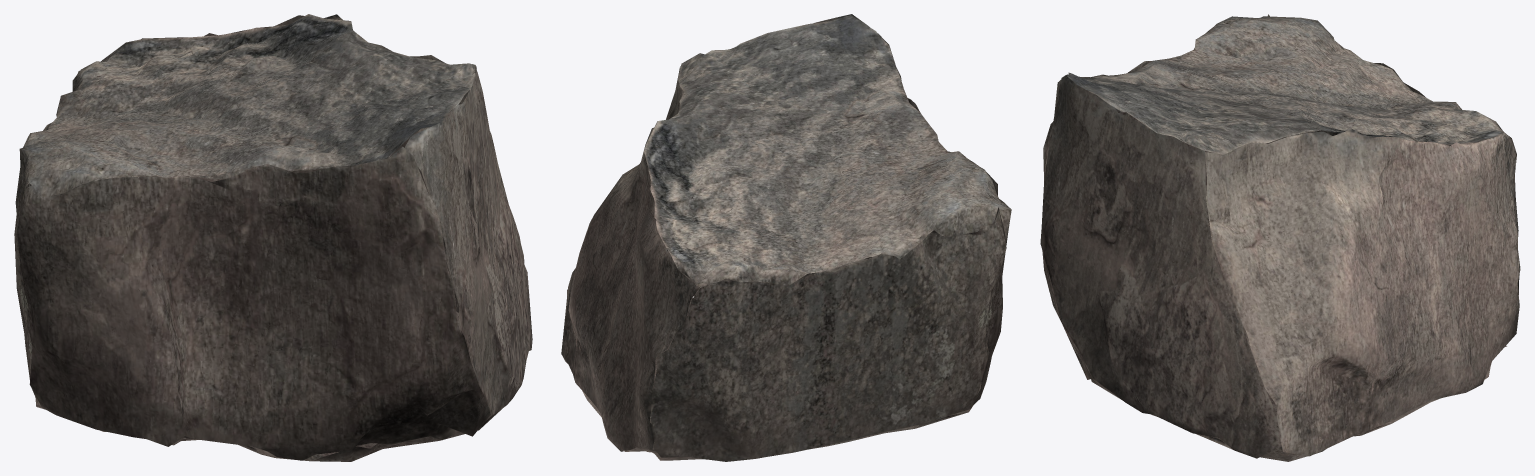
The model's file is BG_RockA.fbx.
3 views of the same model, side by side, from view 1: azimuth 30°, elevation 25°; view 2: azimuth 150°, elevation 25°; view 3: azimuth 270°, elevation 25° (orthographic). The views are drawn at different scales.
Visible parts, largest first — view 1: BG_RockA; view 2: BG_RockA; view 3: BG_RockA.
Part boxes in pixels (bbox=[...]): BG_RockA: bbox=[14, 14, 532, 461]; BG_RockA: bbox=[561, 14, 1011, 461]; BG_RockA: bbox=[1040, 14, 1520, 461].
Bounding box in the file's own units: 1.5 × 1 × 1.41.
Materials: 1 (1 with a texture image).
